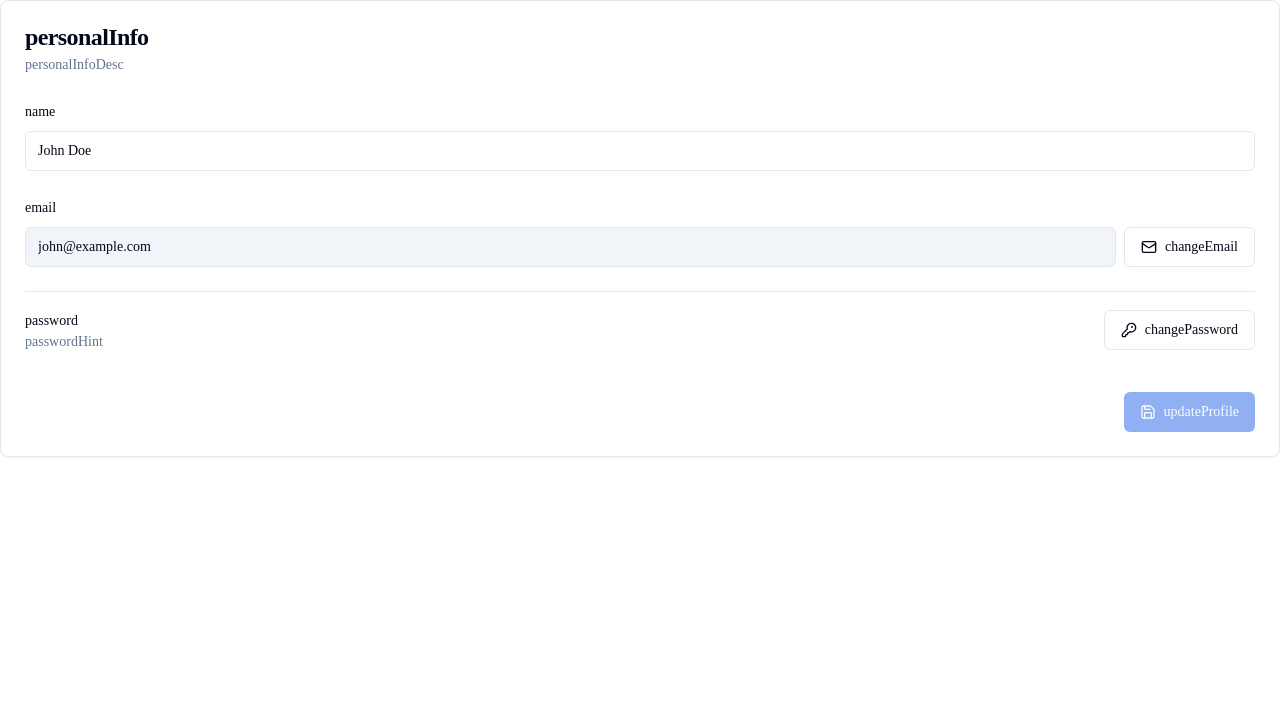
it: ProfileForm › Email Change Dialog › should show success toast and close dialog on successful email change request
Click the button "changeEmail": (1189,247) [1124,227,1255,267]
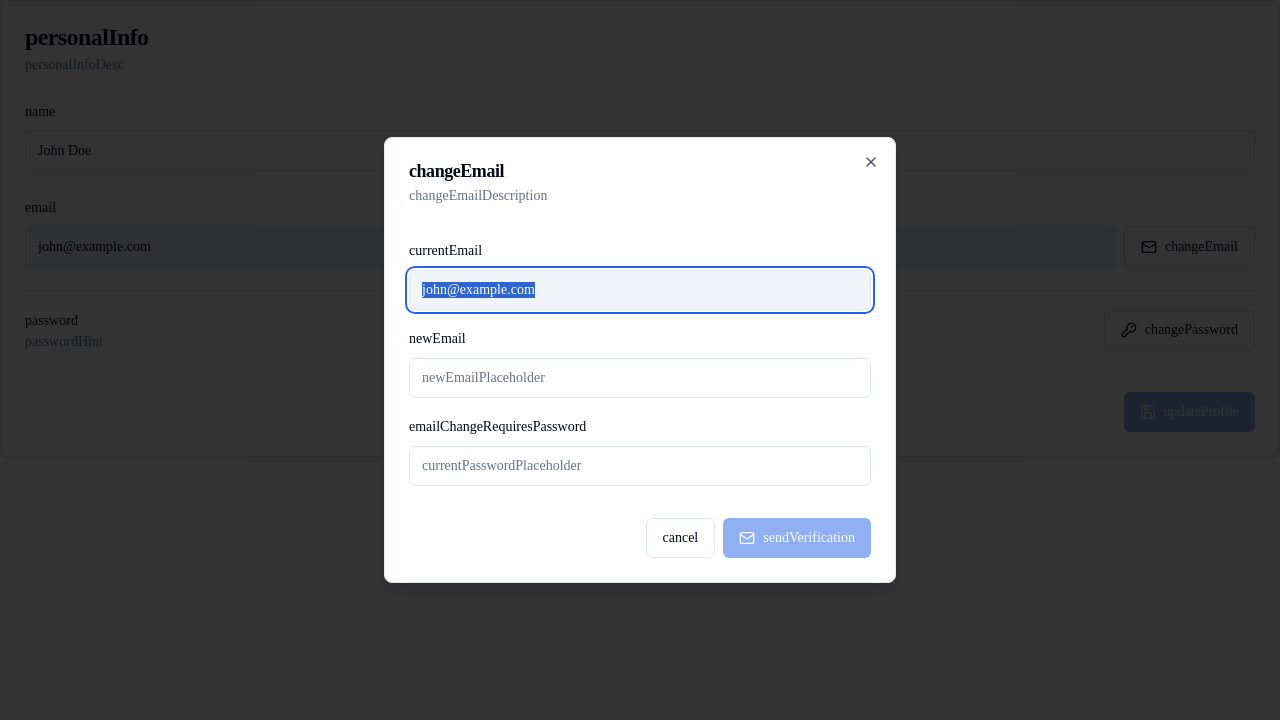
In the field labelled "newEmail": (640,378) [409,358,871,398], type "newemail@example.com"
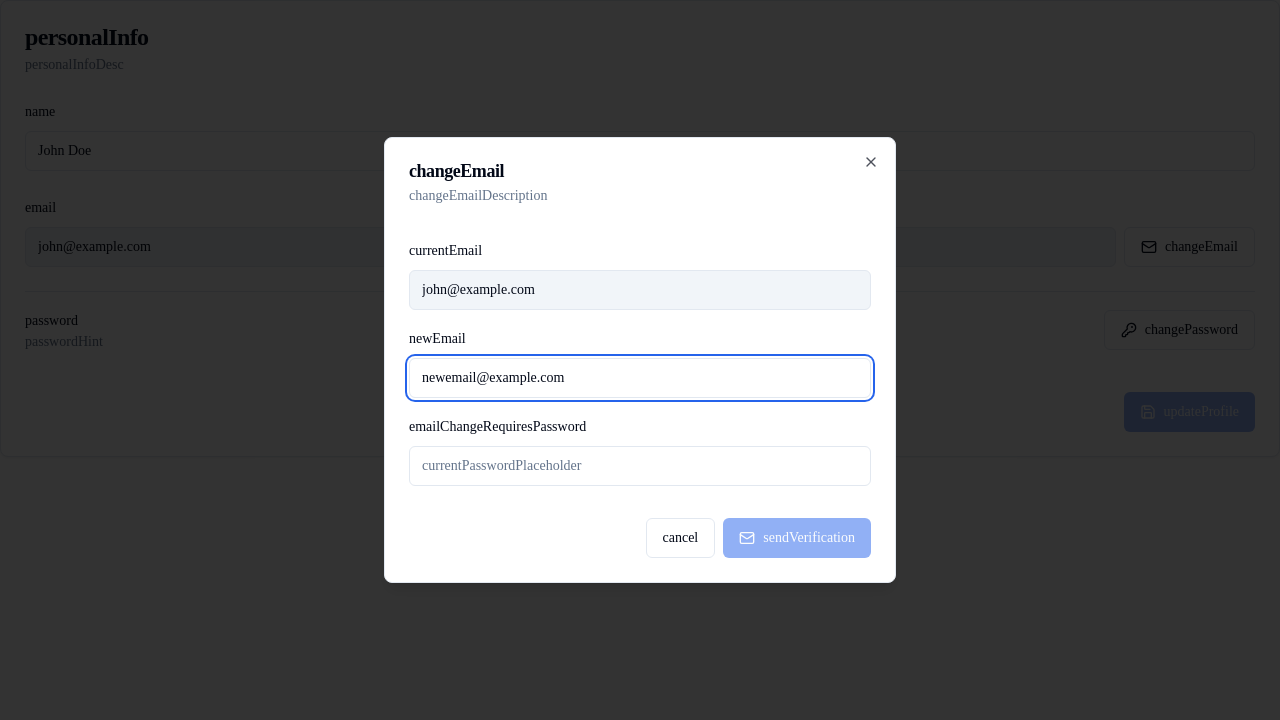
In the password field labelled "emailChangeRequiresPassword": (640,466) [409,446,871,486], type "password123"
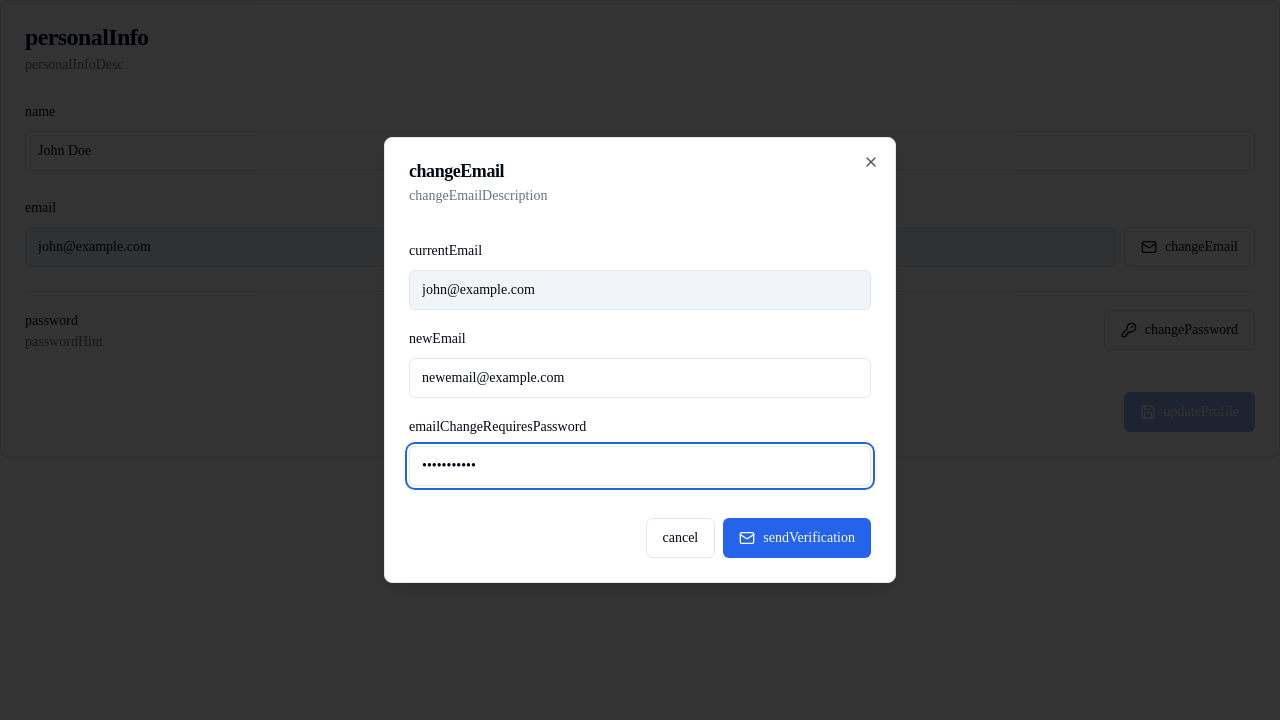
Click the button "sendVerification": (797,538) [723,518,871,558]
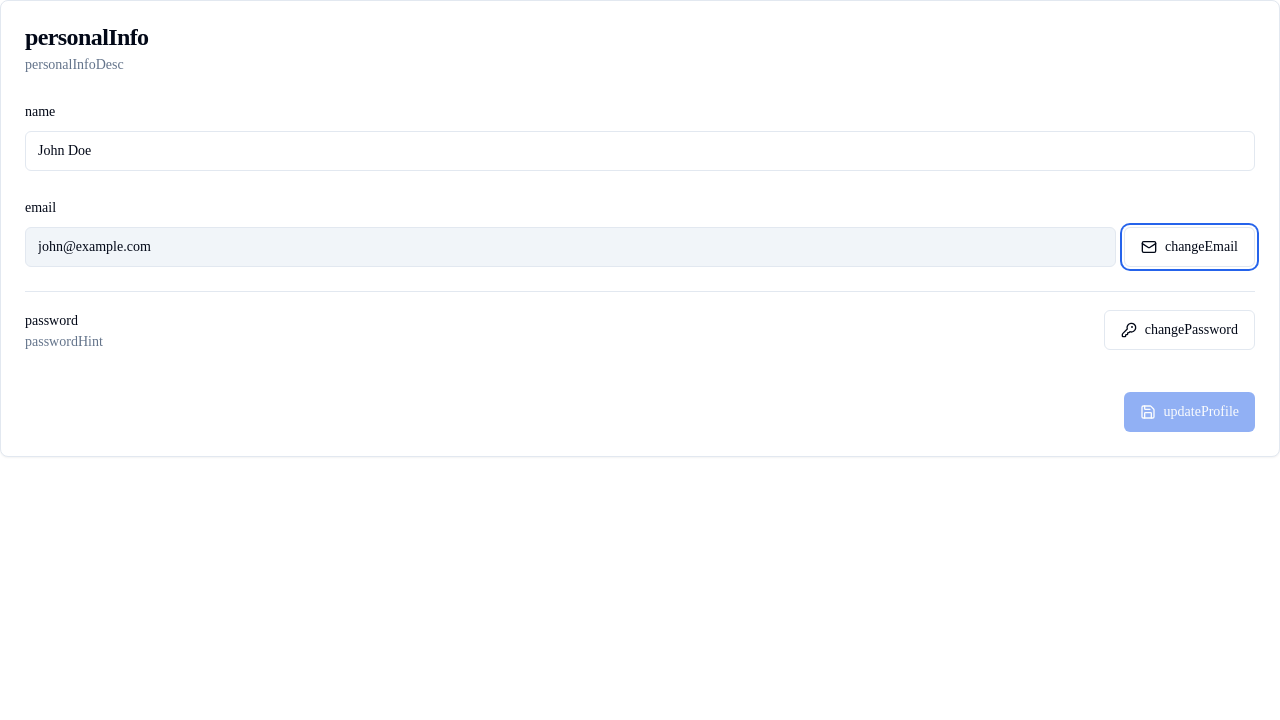
expect the text "changeEmailDescription" is gone: met
